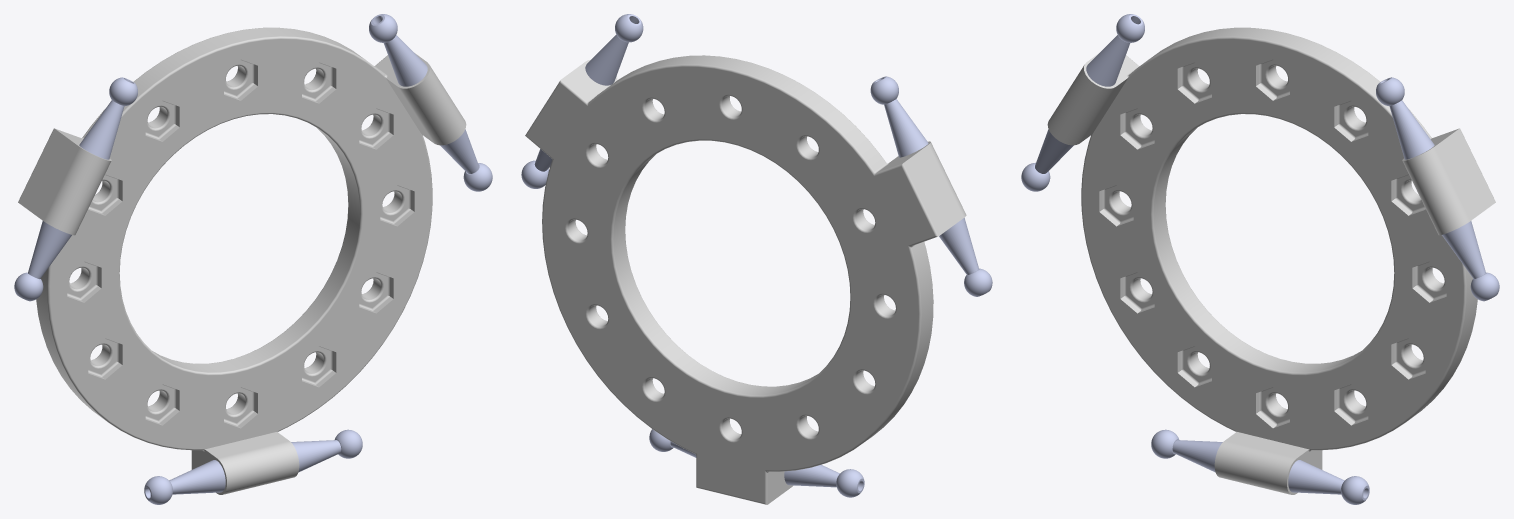
The model's file is effector.dae.
The picture shows the model from 3 angles, left to right: view 1: azimuth 30°, elevation 25°; view 2: azimuth 150°, elevation 25°; view 3: azimuth 330°, elevation 25°; orthographic projection.
Visible parts, largest first — view 1: Polygon (×13); view 2: Polygon (×10); view 3: Polygon (×13).
Boxes of the visible parts, bbox=[...] form: Polygon (×13): bbox=[14, 14, 492, 504]; Polygon (×10): bbox=[521, 14, 992, 504]; Polygon (×13): bbox=[1021, 14, 1499, 504].
Size of the model in its own units: 9.85 by 8.69 by 1.3.
